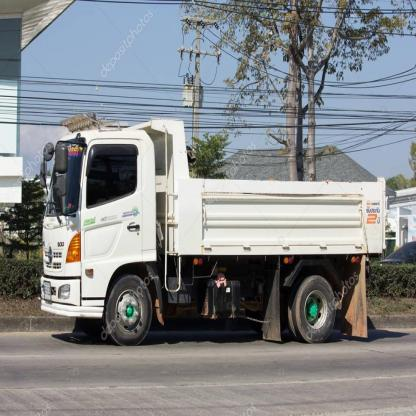dump_truck: (31, 103, 398, 382)
